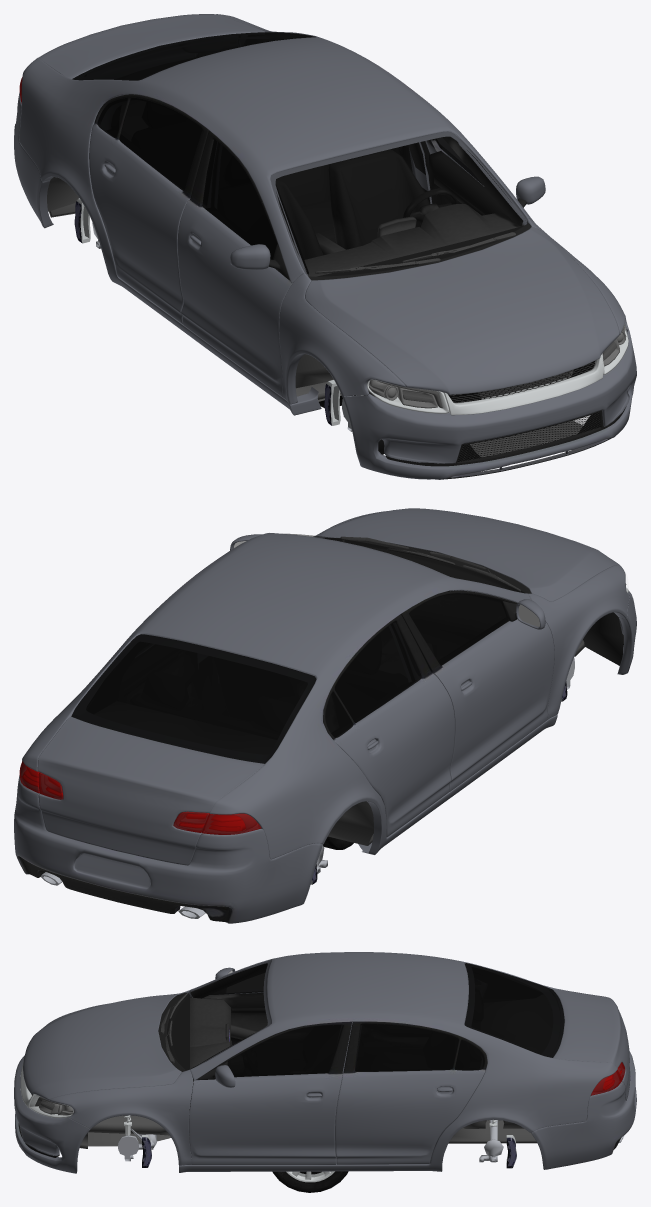
File: vehicle.glb
3 renders of one model, top to bottom at view 1: azimuth 30°, elevation 25°; view 2: azimuth 150°, elevation 25°; view 3: azimuth 270°, elevation 25°, orthographic. The views are drawn at different scales.
Visible parts, largest first — view 1: Body, Cockpit_Steer; view 2: Body; view 3: Body, Wheel.
Boxes of the visible parts, x1,y1,x2,y2 form: Body: (14, 14, 636, 479); Cockpit_Steer: (403, 188, 457, 227); Body: (14, 508, 636, 923); Body: (14, 952, 636, 1173); Wheel: (272, 1171, 348, 1192).
Bounding box in the file's own units: 2.1 × 1.84 × 4.98.
24 materials, 11 textured.
